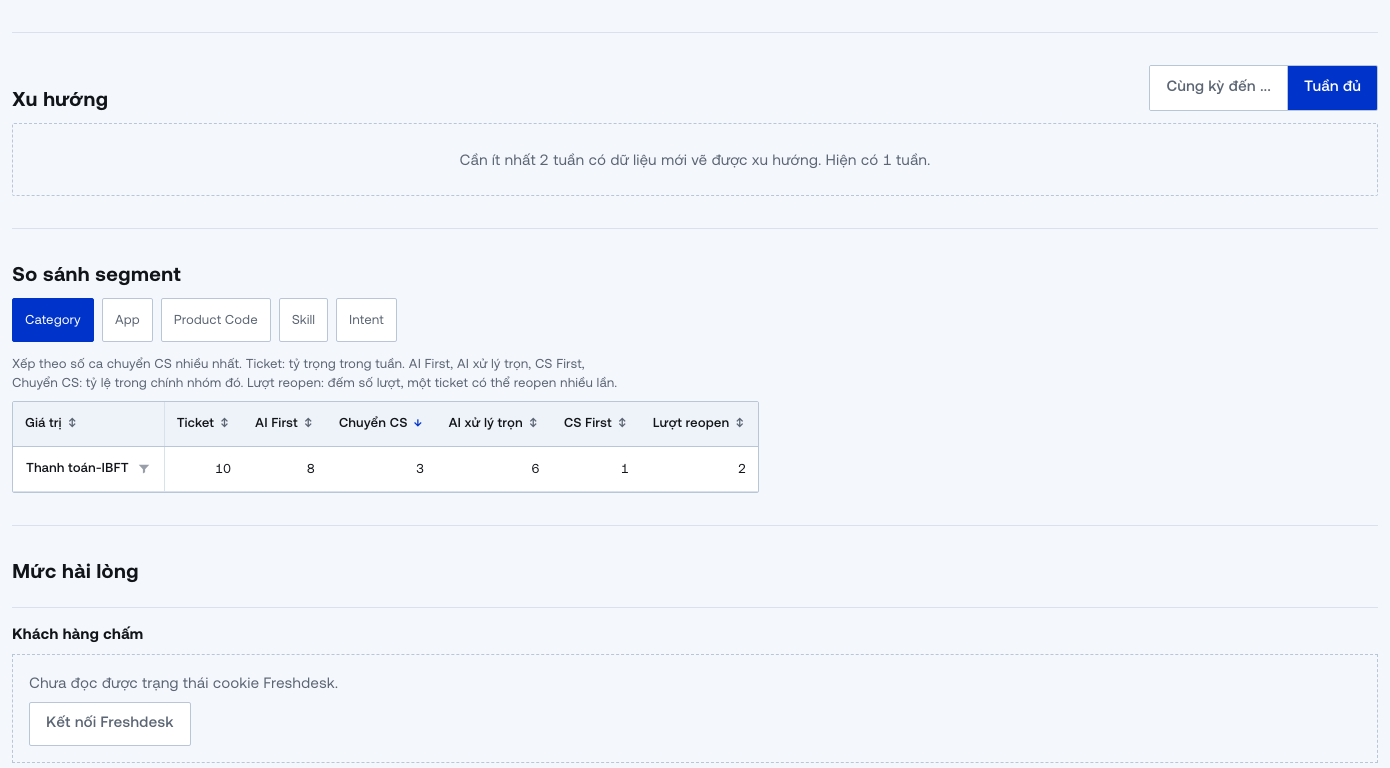
Test: Below-fold analysis › hides zero-ticket App rows without hiding a positive row whose child metrics are zero
The width and height of the screenshot is (1390, 768).
Click the tab "App". click: (127,320)
box: left=102, top=298, right=153, bottom=342
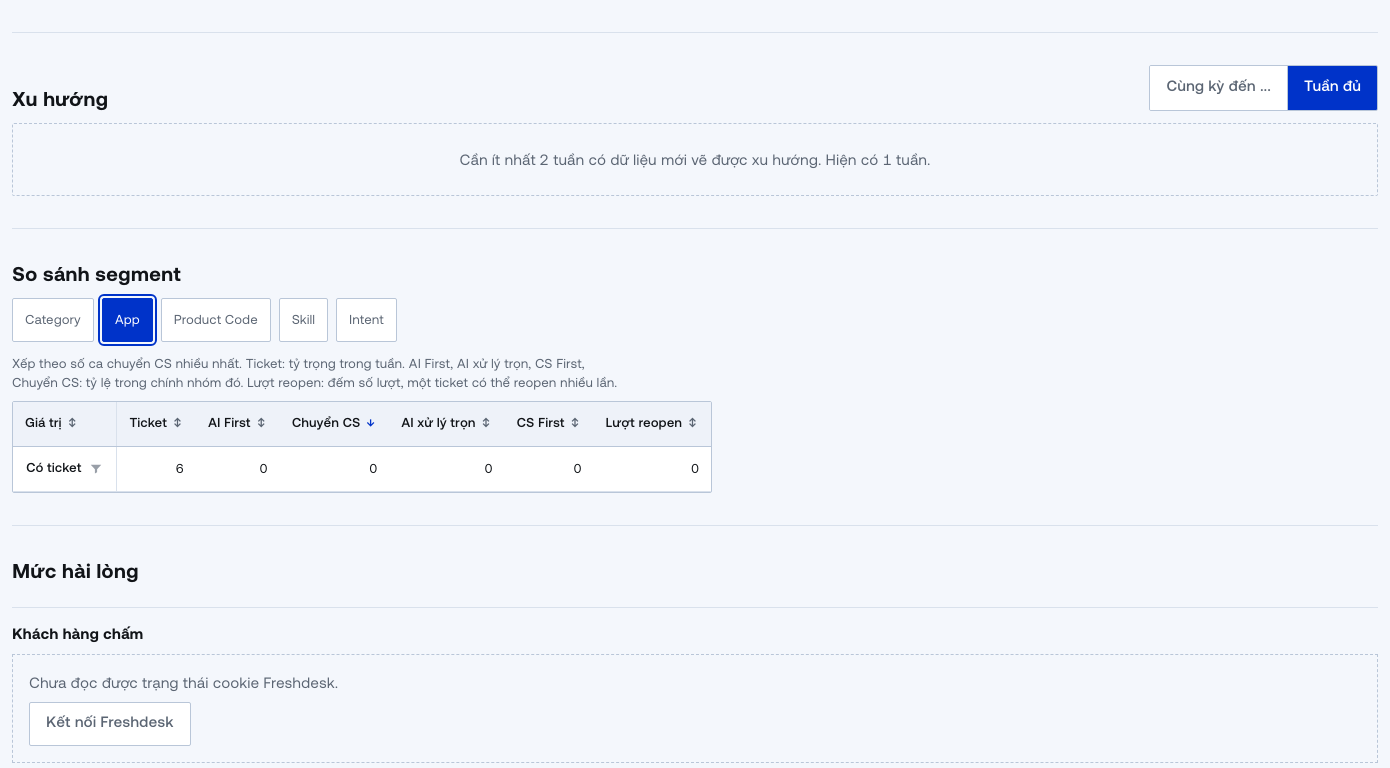
expect the text "6" is shown: met, box left=117, top=446, right=196, bottom=491
